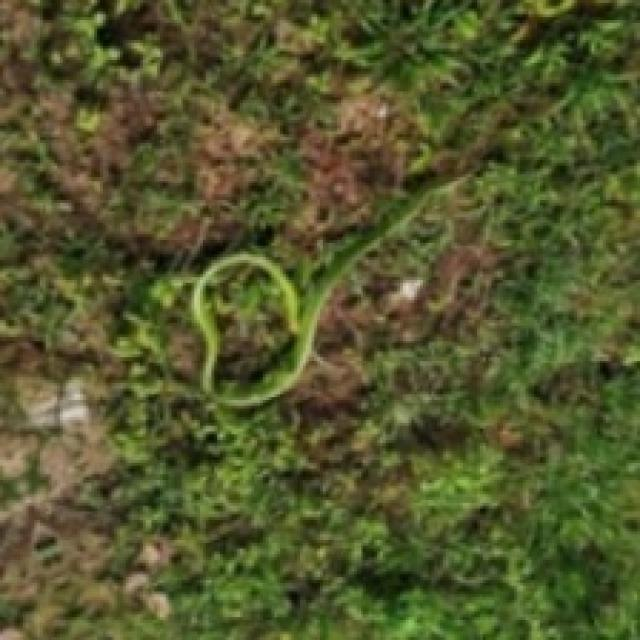red-tailed green ratsnake: (189, 146, 483, 406)
